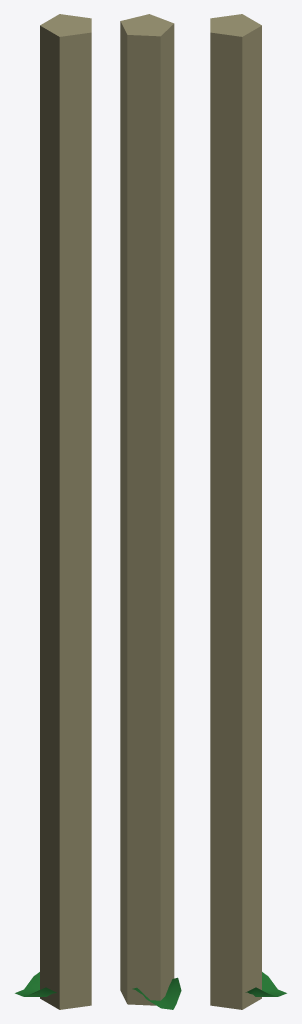
File: plantpost.fbx
3 renders of one model, left to right at view 1: azimuth 90°, elevation 25°; view 2: azimuth 210°, elevation 25°; view 3: azimuth 270°, elevation 25°, orthographic.
Visible parts, largest first — view 1: Cylinder, Plane; view 2: Cylinder, Plane; view 3: Cylinder, Plane.
Boxes of the visible parts, x1,y1,x2,y2 form: Cylinder: (40,14,91,1009); Plane: (15,972,56,996); Cylinder: (120,14,174,1005); Plane: (132,977,181,1009); Cylinder: (210,14,261,1009); Plane: (245,972,286,996).
Bounding box in the file's own units: 15.27 × 302 × 21.69.
